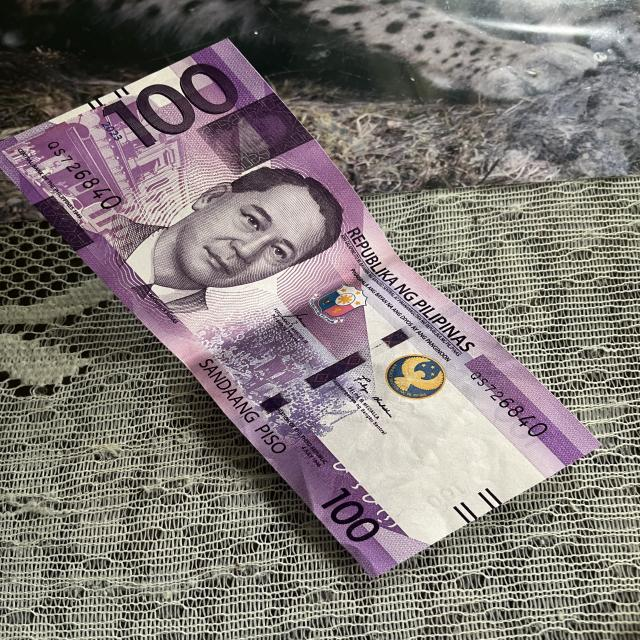concealed_value: (196, 93, 315, 177)
security_thread: (227, 302, 450, 428)
see_through_mark: (320, 456, 413, 534)
serial_number: (459, 360, 570, 456), (35, 131, 135, 217)
value: (93, 54, 256, 151)
value_watermark: (421, 475, 476, 515)
watermark: (346, 381, 516, 516)
